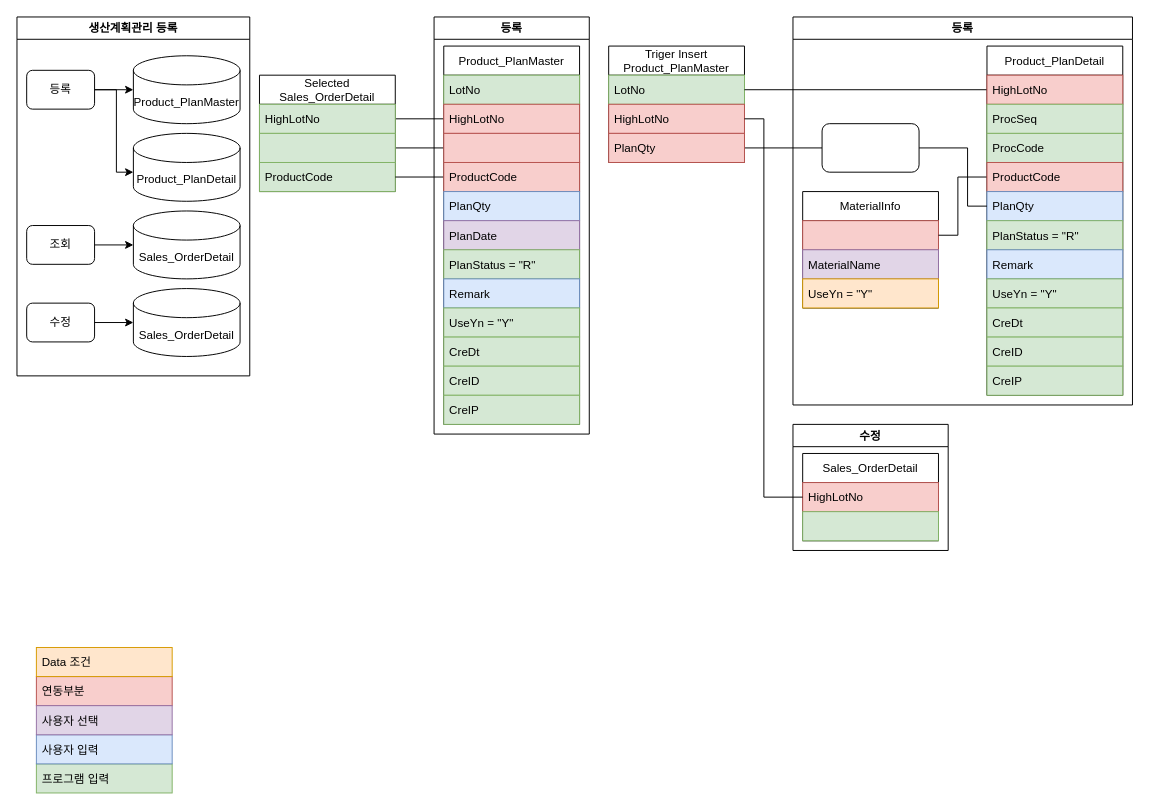
Some shapes in this 1149 by 810 pixel diagram are drawn without their labels. Each missing label, with the centre of its shape:
HighLotSeq: (511,147)
LotSeq: (327,147)
MaterialCode: (870,235)
PlanStatus = "E": (870,526)
Recipe 연동 or 수동입력: (870,147)
